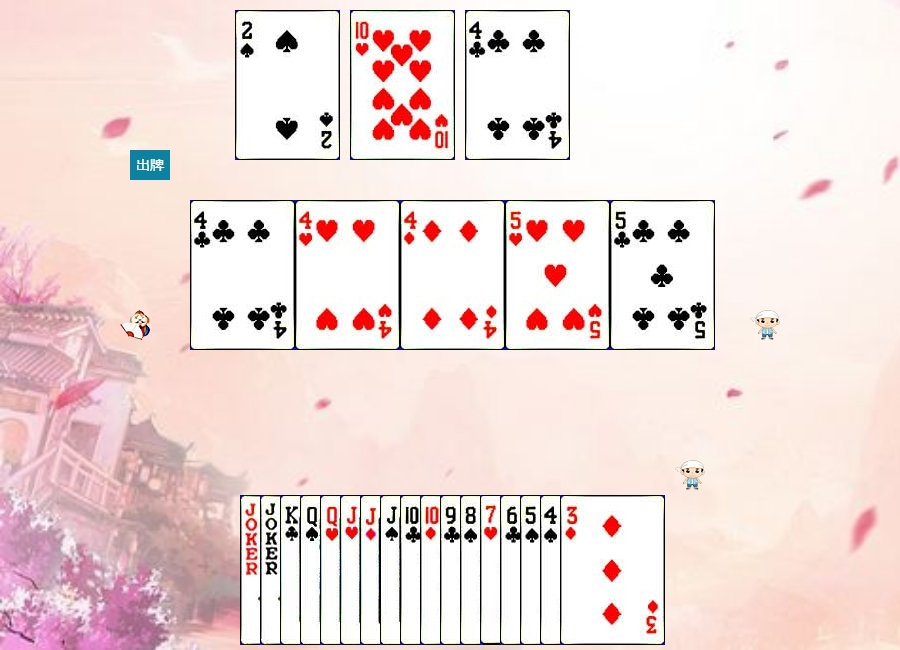10~1: (420, 495, 525, 645)
10~2: (400, 495, 505, 645)
10~3: (350, 10, 455, 160)
11~1: (360, 495, 465, 645)
11~3: (340, 495, 445, 645)
11~4: (380, 495, 485, 645)
12~3: (320, 495, 425, 645)
12~4: (300, 495, 405, 645)
13~2: (280, 495, 385, 645)
15~4: (235, 10, 340, 160)
17~3: (260, 495, 365, 645)
18~4: (240, 495, 345, 645)
3~1: (560, 495, 665, 645)
4~1: (400, 200, 505, 350)
4~2: (465, 10, 570, 160), (190, 200, 295, 350)
4~3: (295, 200, 400, 350)
4~4: (540, 495, 645, 645)
5~2: (610, 200, 715, 350)
5~3: (505, 200, 610, 350)
5~4: (520, 495, 625, 645)
6~2: (500, 495, 605, 645)
7~3: (480, 495, 585, 645)
8~4: (460, 495, 565, 645)
9~2: (440, 495, 545, 645)
